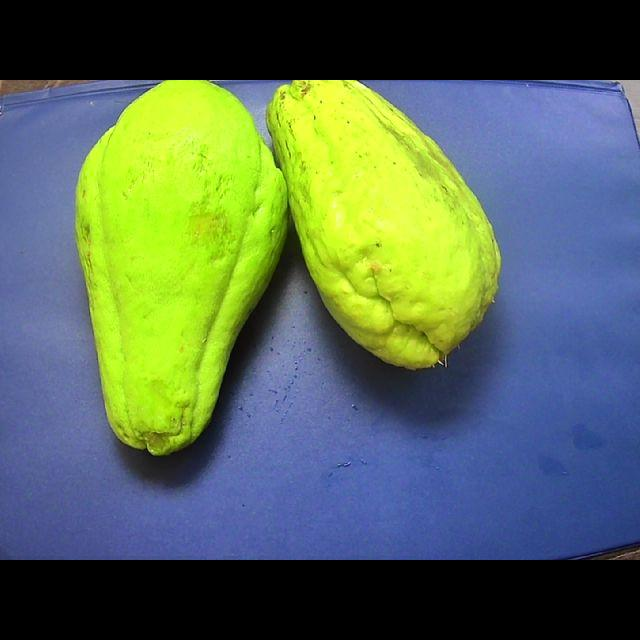chayote: (76, 80, 287, 454), (267, 80, 500, 368)
